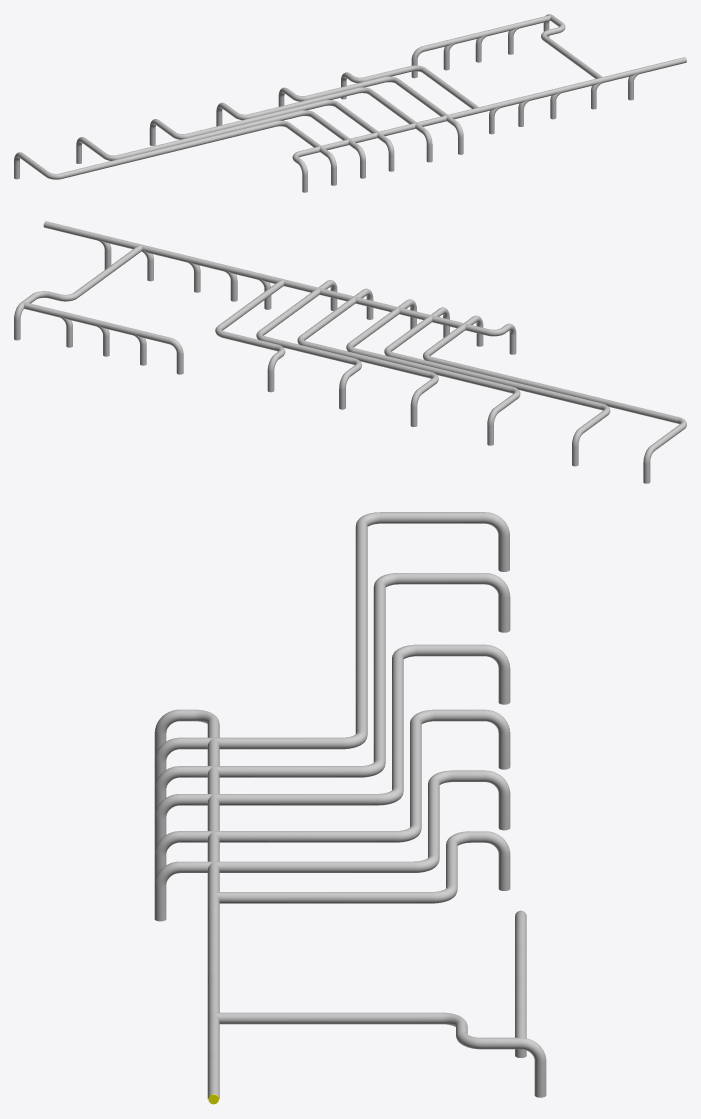
The model's file is sm_electrical_power_path.glb.
3 renders of one model, top to bottom at view 1: azimuth 30°, elevation 25°; view 2: azimuth 150°, elevation 25°; view 3: azimuth 270°, elevation 25°, orthographic. The views are drawn at different scales.
Visible parts, largest first — view 1: sm_electrical_power_path; view 2: sm_electrical_power_path; view 3: sm_electrical_power_path.
Part boxes in pixels (left/top/right/bottom): sm_electrical_power_path: left=14, top=14, right=686, bottom=192; sm_electrical_power_path: left=14, top=221, right=686, bottom=483; sm_electrical_power_path: left=154, top=512, right=546, bottom=1104.
Bounding box in the file's own units: 22.77 × 1.04 × 6.45.
2 materials, 1 textured.
